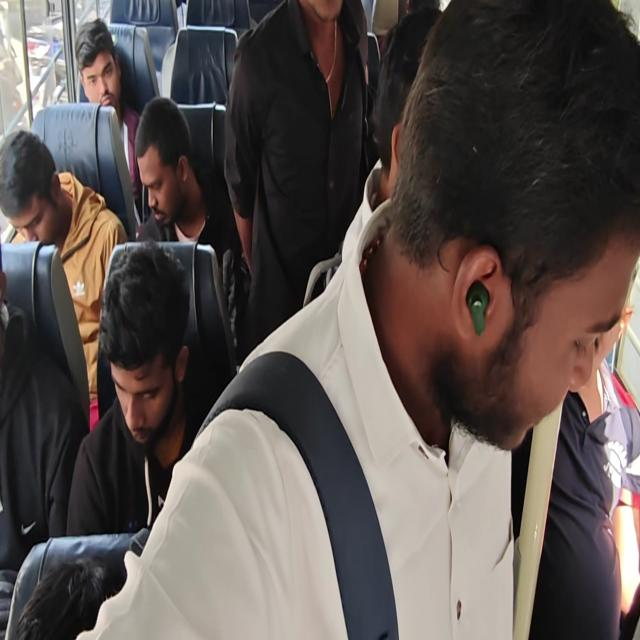person: (71, 0, 638, 638), (223, 0, 373, 358), (511, 302, 639, 638), (66, 238, 200, 537), (0, 128, 128, 430), (0, 266, 89, 636), (133, 95, 247, 353), (369, 6, 443, 209), (73, 18, 144, 220), (15, 553, 124, 639)
